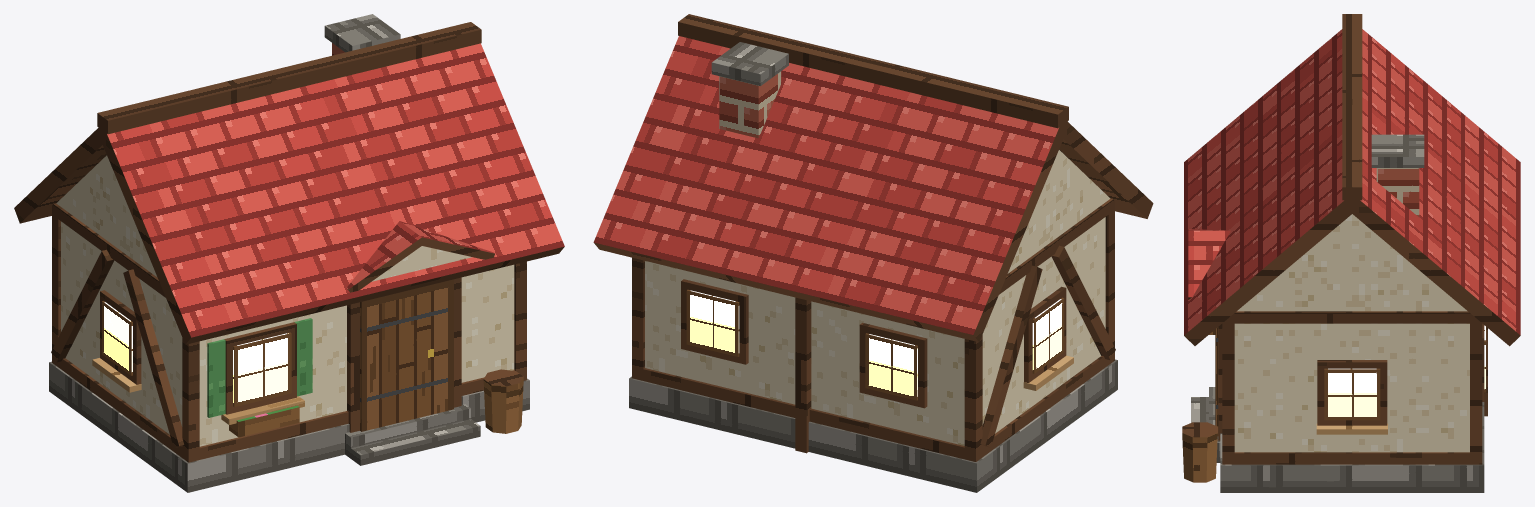
Rendered from house_small.glb.
3 views of the same model, side by side, from view 1: azimuth 30°, elevation 25°; view 2: azimuth 150°, elevation 25°; view 3: azimuth 270°, elevation 25° (orthographic). The views are drawn at different scales.
Visible parts, largest first — view 1: house_small; view 2: house_small; view 3: house_small.
Part boxes in pixels (bbox=[...]): house_small: bbox=[14, 14, 564, 492]; house_small: bbox=[593, 14, 1153, 492]; house_small: bbox=[1182, 14, 1520, 492].
Size of the model in its own units: 4.04 by 3.4 by 3.33.
Materials: 11 (11 with a texture image).
